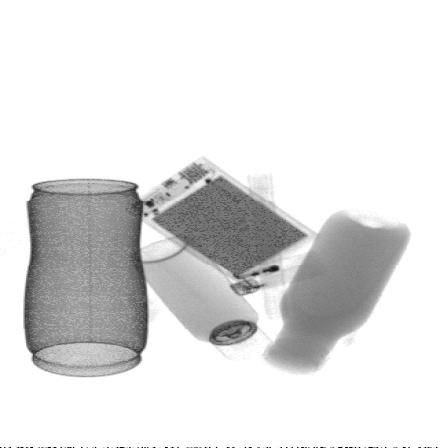Lighter: (191, 222, 270, 295)
Powerbank: (126, 156, 321, 285)
Sprayer: (129, 236, 275, 361)
